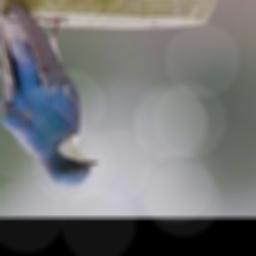Swallow: (0, 2, 97, 187)
